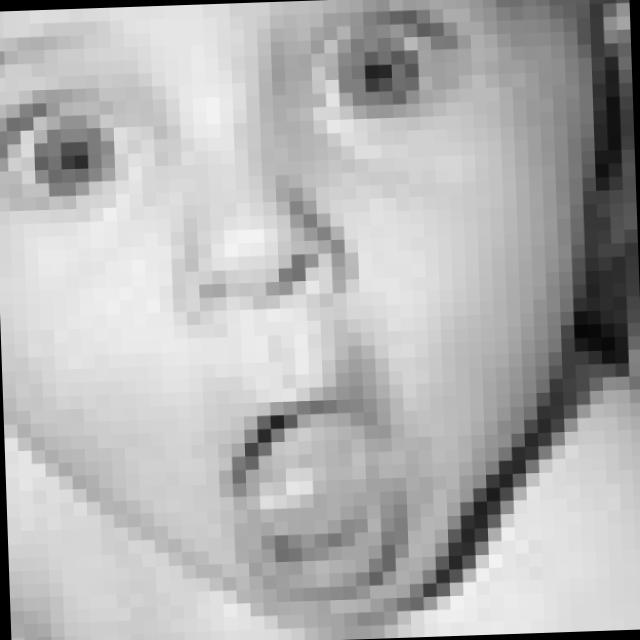surprise: (0, 0, 509, 609)
